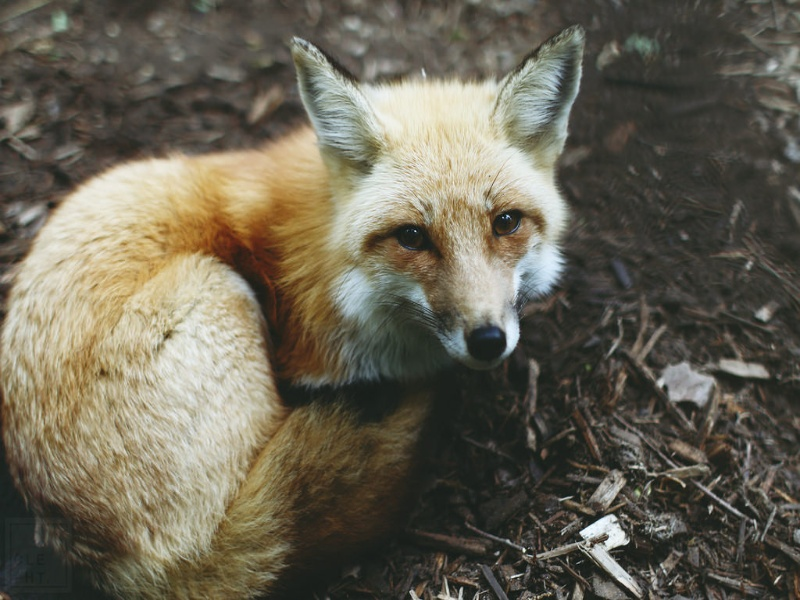fox: (24, 31, 592, 562)
